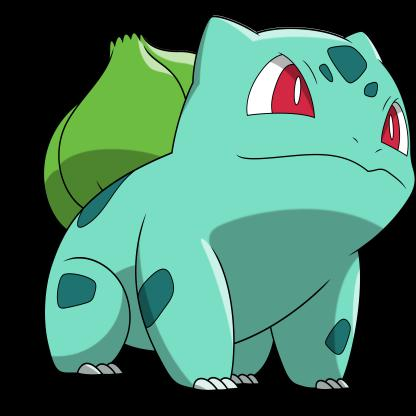Bulbasaur: (30, 7, 416, 409)
